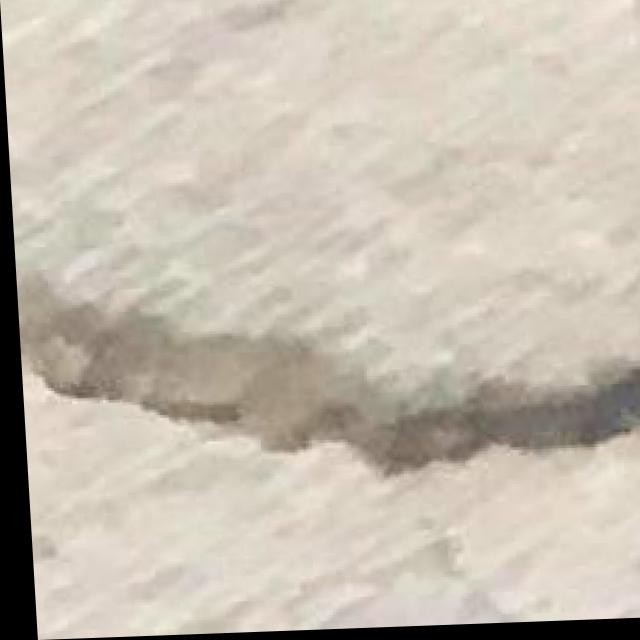Crack: (12, 238, 640, 530)
